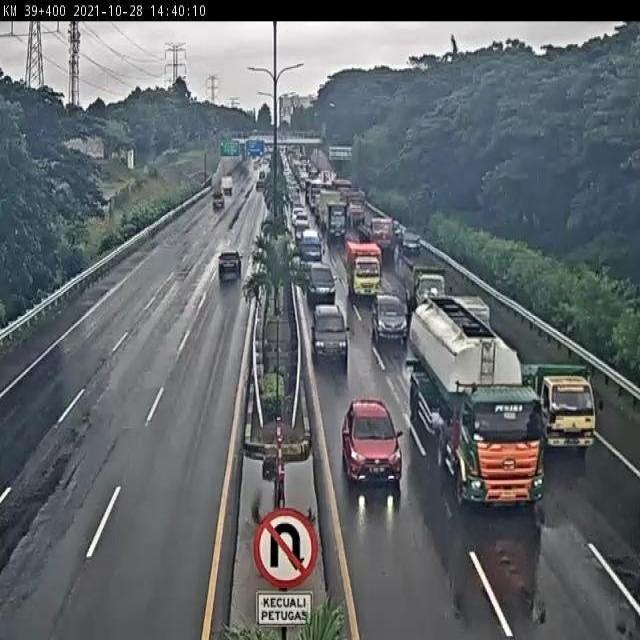Car: (340, 396, 404, 488), (312, 305, 349, 370), (370, 293, 409, 345), (306, 262, 337, 309), (218, 250, 242, 282), (401, 230, 423, 257)
Truck: (398, 268, 551, 538), (256, 420, 310, 474), (345, 242, 383, 302), (523, 363, 586, 399), (445, 295, 493, 334), (411, 265, 447, 311), (243, 254, 271, 310), (228, 182, 254, 229), (436, 415, 454, 474), (369, 217, 395, 253), (326, 202, 347, 243), (394, 238, 416, 277), (298, 229, 322, 261), (346, 200, 366, 234), (344, 230, 363, 262), (350, 132, 362, 182), (251, 490, 265, 524), (262, 452, 278, 481), (520, 363, 538, 388), (260, 212, 276, 240), (254, 334, 263, 383), (279, 185, 292, 218), (280, 133, 322, 143), (289, 253, 303, 281), (308, 186, 322, 213), (288, 146, 304, 168), (304, 176, 318, 200), (279, 148, 291, 176), (297, 258, 312, 280), (403, 284, 413, 316), (253, 260, 267, 282), (220, 175, 233, 198), (212, 187, 224, 211), (405, 356, 421, 374), (292, 206, 306, 225), (232, 138, 246, 157), (250, 136, 268, 150), (254, 245, 267, 264), (336, 178, 352, 193), (286, 184, 296, 208), (298, 169, 310, 188), (161, 148, 180, 160), (194, 171, 209, 186), (66, 102, 83, 115), (338, 186, 350, 204), (256, 169, 266, 190), (321, 170, 335, 185), (307, 166, 320, 182), (220, 141, 233, 155), (276, 138, 294, 148), (306, 506, 316, 524), (254, 313, 261, 337), (302, 160, 312, 176), (253, 156, 263, 172), (272, 142, 285, 154), (261, 153, 271, 167), (128, 149, 134, 171), (267, 158, 275, 174), (265, 144, 274, 157), (91, 152, 105, 160), (235, 135, 247, 144), (321, 122, 327, 140), (244, 186, 252, 199), (306, 129, 319, 137), (252, 152, 262, 162), (239, 131, 249, 139), (251, 129, 259, 137)
